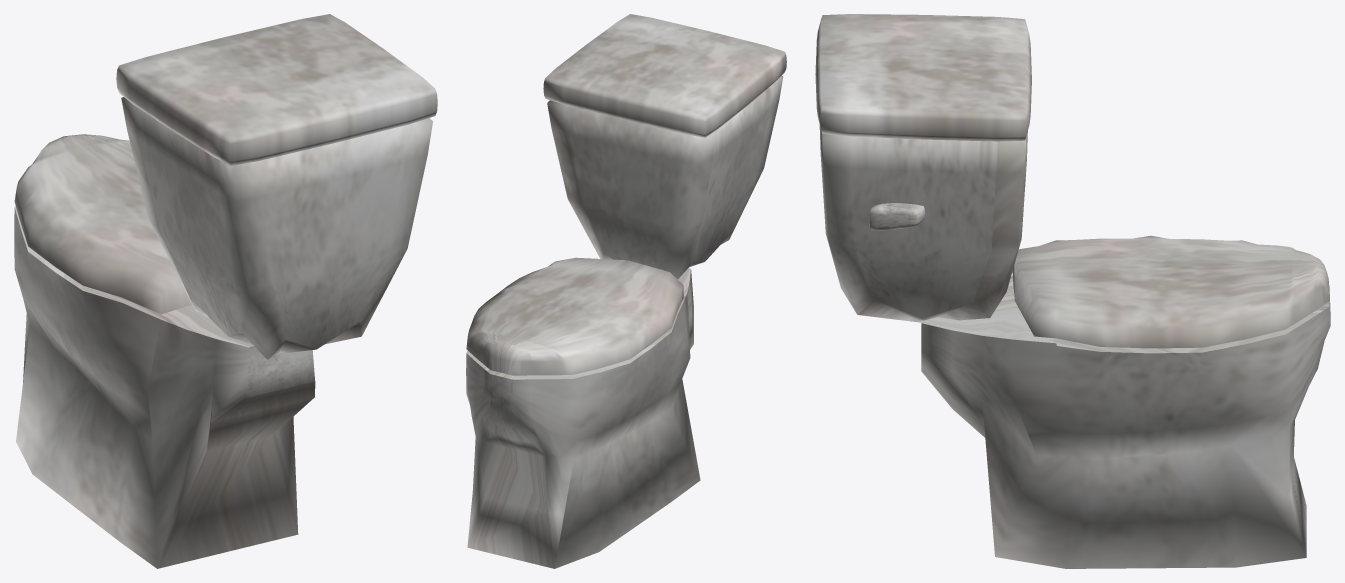
The model's file is toilet.fbx.
3 renders of one model, left to right at view 1: azimuth 30°, elevation 25°; view 2: azimuth 150°, elevation 25°; view 3: azimuth 270°, elevation 25°, orthographic. The views are drawn at different scales.
Parts seen in each view (by area): view 1: polySurface1, polySurface3, polySurface4, polySurface2; view 2: polySurface1, polySurface3, polySurface2, polySurface4; view 3: polySurface1, polySurface3, polySurface2, polySurface4, pCube4.
Part boxes in pixels (x1,y1,x2,y2): polySurface1: [14, 206, 315, 568]; polySurface3: [121, 97, 432, 359]; polySurface4: [116, 14, 437, 165]; polySurface2: [14, 134, 191, 314]; polySurface1: [466, 268, 700, 568]; polySurface3: [547, 76, 783, 279]; polySurface2: [466, 257, 683, 375]; polySurface4: [543, 14, 786, 137]; polySurface1: [921, 275, 1330, 568]; polySurface3: [819, 125, 1027, 322]; polySurface2: [1012, 235, 1329, 348]; polySurface4: [815, 14, 1031, 141]; pCube4: [869, 203, 925, 230].
Bounding box in the file's own units: 2.9 × 6.23 × 6.13.
Materials: 1 (1 with a texture image).
